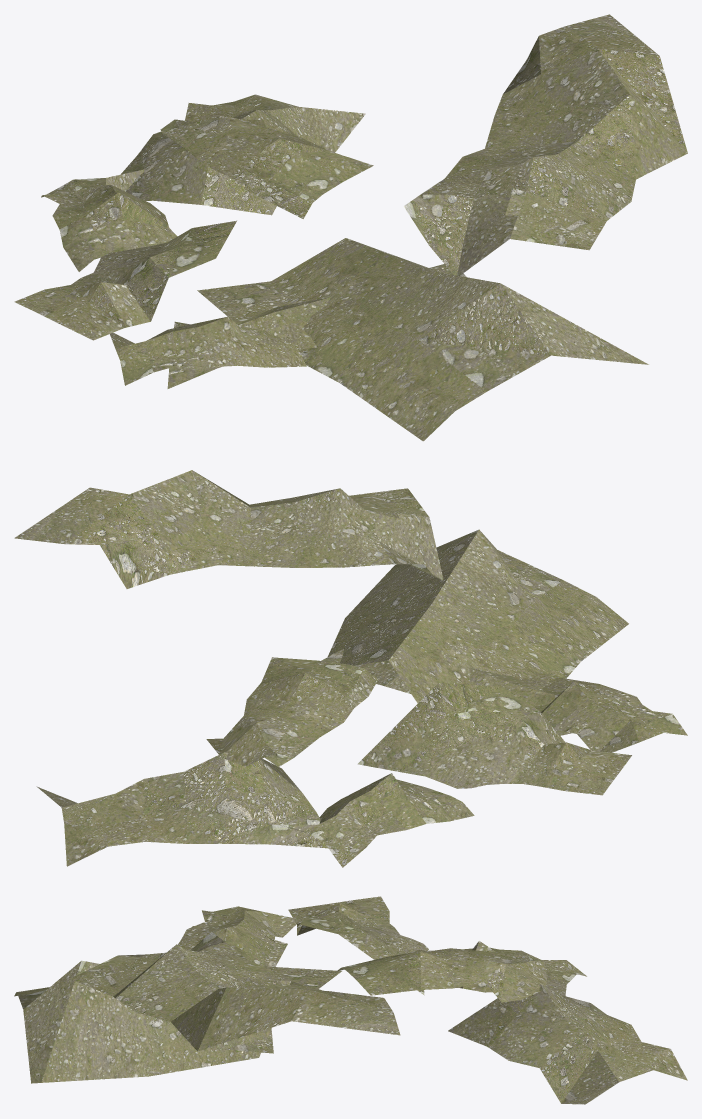
Rendered from SM_Chateaux_01_08.fbx.
The picture shows the model from 3 angles, top to bottom: view 1: azimuth 30°, elevation 25°; view 2: azimuth 150°, elevation 25°; view 3: azimuth 270°, elevation 25°; orthographic projection. The views are drawn at different scales.
Parts seen in each view (by area): view 1: SM_Chateaux_01_08; view 2: SM_Chateaux_01_08; view 3: SM_Chateaux_01_08.
Part boxes in pixels (<box>): SM_Chateaux_01_08: <box>14,14,687,441</box>; SM_Chateaux_01_08: <box>14,470,687,867</box>; SM_Chateaux_01_08: <box>14,896,687,1104</box>.
Bounding box in the file's own units: 5861 × 1794 × 6713.
